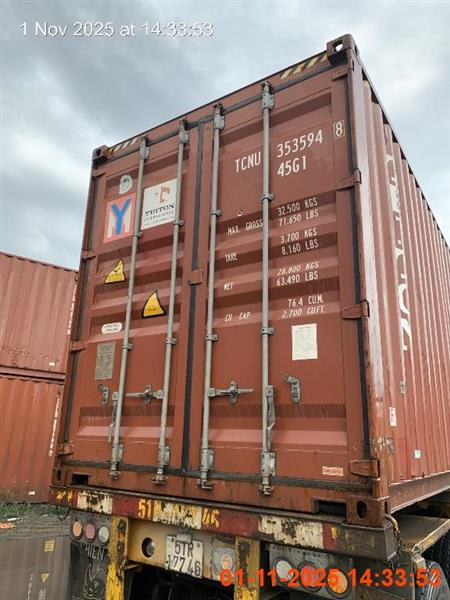crack: (2, 34, 449, 593)
